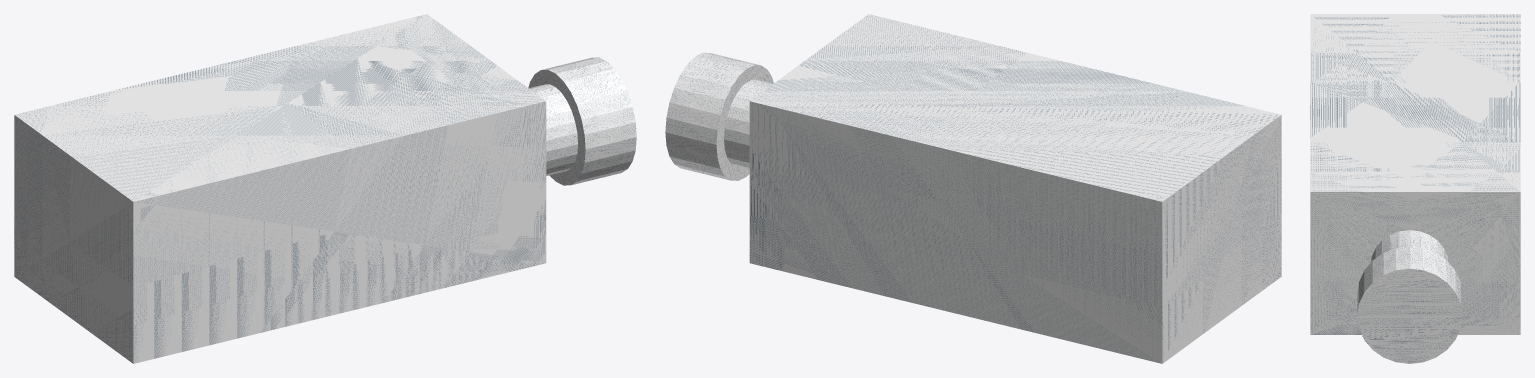
The picture shows the model from 3 angles, left to right: view 1: azimuth 30°, elevation 25°; view 2: azimuth 150°, elevation 25°; view 3: azimuth 270°, elevation 25°; orthographic projection. The views are drawn at different scales.
Visible parts, largest first — view 1: Component1 (×3); view 2: Component1 (×3); view 3: Component1 (×3).
Boxes of the visible parts, box(x1,y1,x2,y2) form: Component1 (×3): box(14, 14, 636, 363); Component1 (×3): box(665, 14, 1281, 363); Component1 (×3): box(1310, 14, 1520, 363).
Size of the model in its own units: 4.11 by 1.6 by 1.2.
